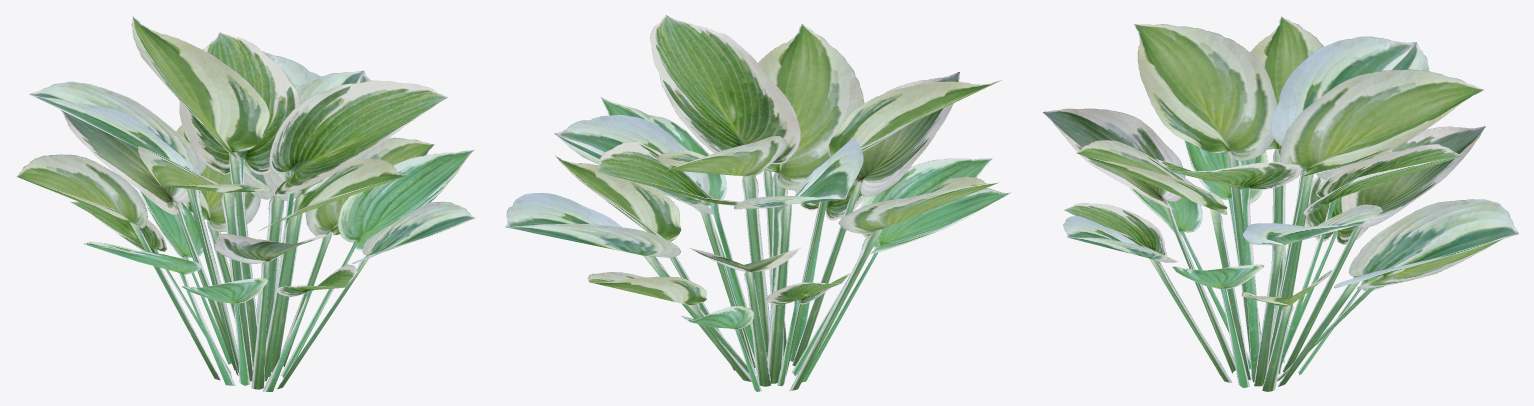
File: plant_small_wg_00U_wild.fbx
3 views of the same model, side by side, from view 1: azimuth 30°, elevation 25°; view 2: azimuth 150°, elevation 25°; view 3: azimuth 270°, elevation 25° (orthographic). The views are drawn at different scales.
Visible parts, largest first — view 1: plant_small_wg_00U_wild; view 2: plant_small_wg_00U_wild; view 3: plant_small_wg_00U_wild.
Part boxes in pixels (x1,y1,x2,y2): plant_small_wg_00U_wild: (16, 16, 474, 391); plant_small_wg_00U_wild: (505, 15, 1010, 391); plant_small_wg_00U_wild: (1043, 16, 1518, 391).
Size of the model in its own units: 95.82 by 63.14 by 92.77.
